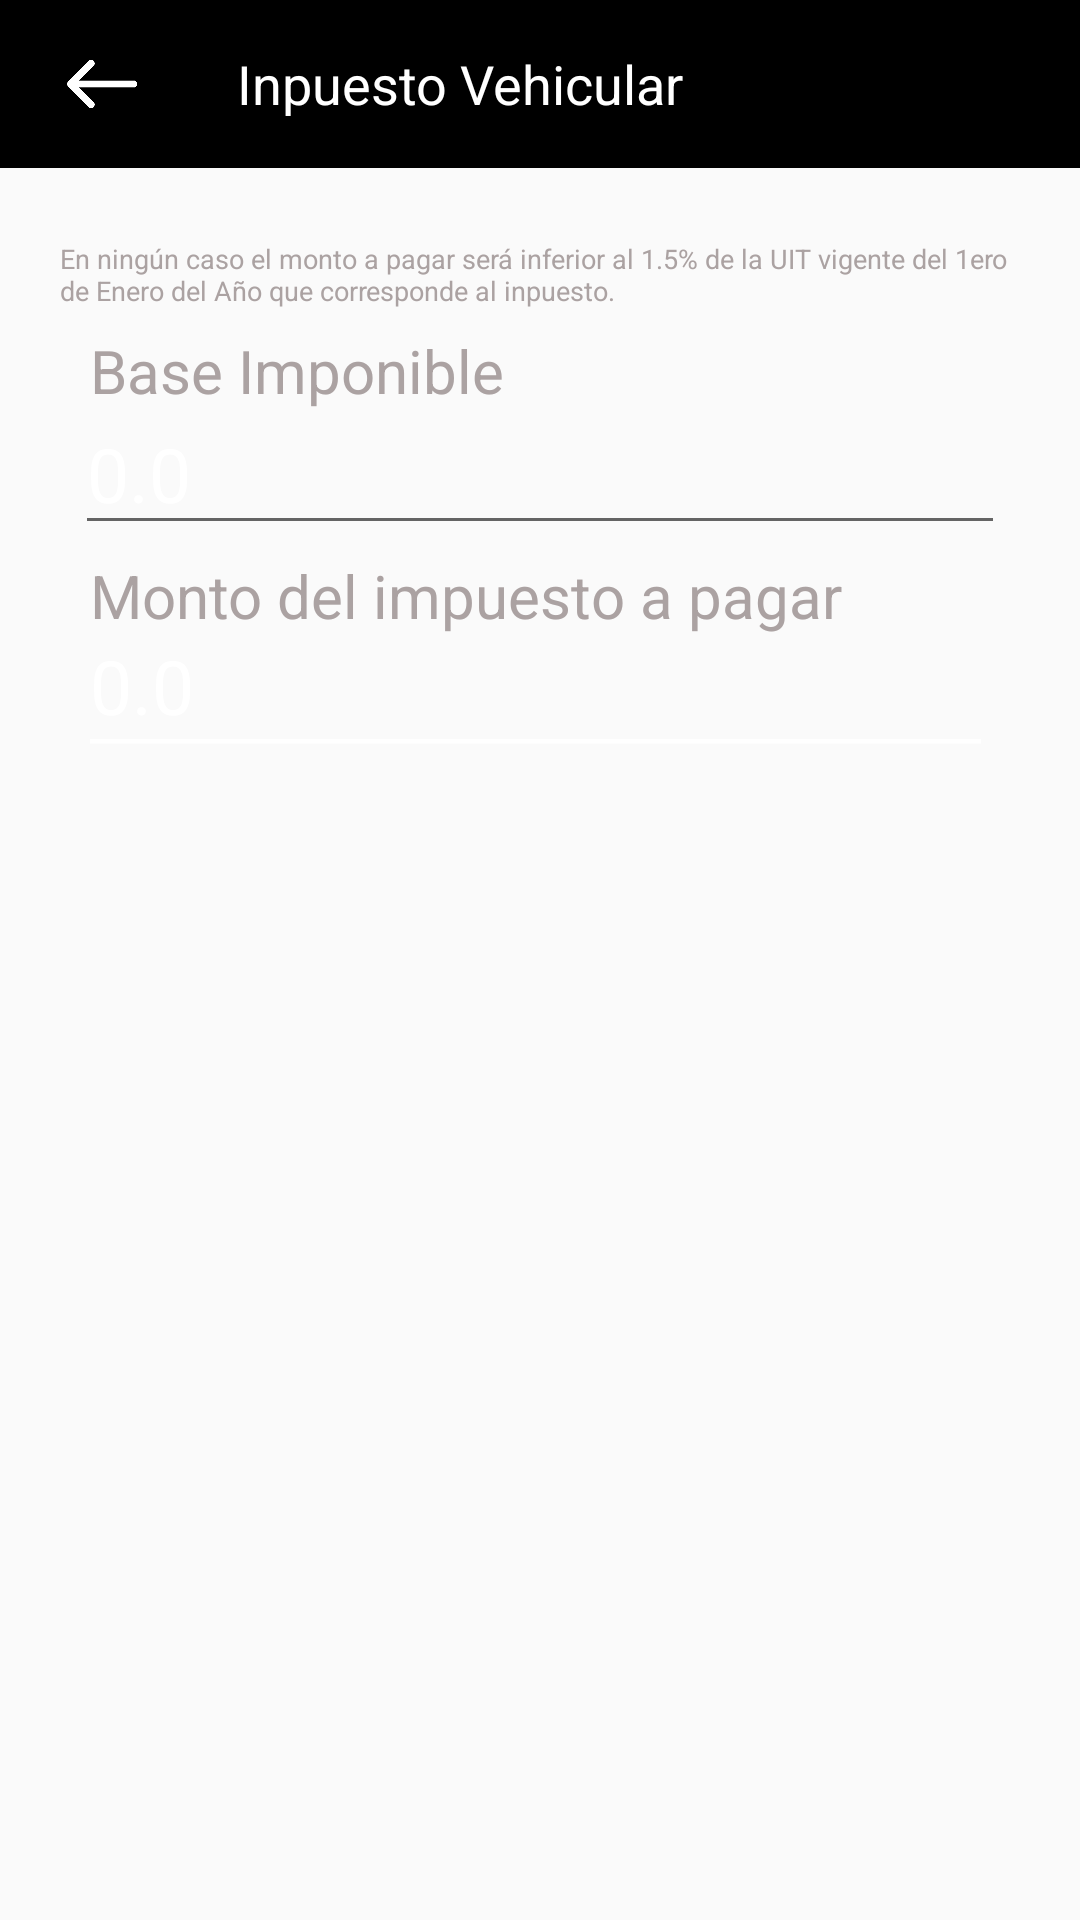

Icons on this 1080 × 1920 Android screen, each with the point to tap as point (x, y):
calculadora atras fecha: point (102, 84)
